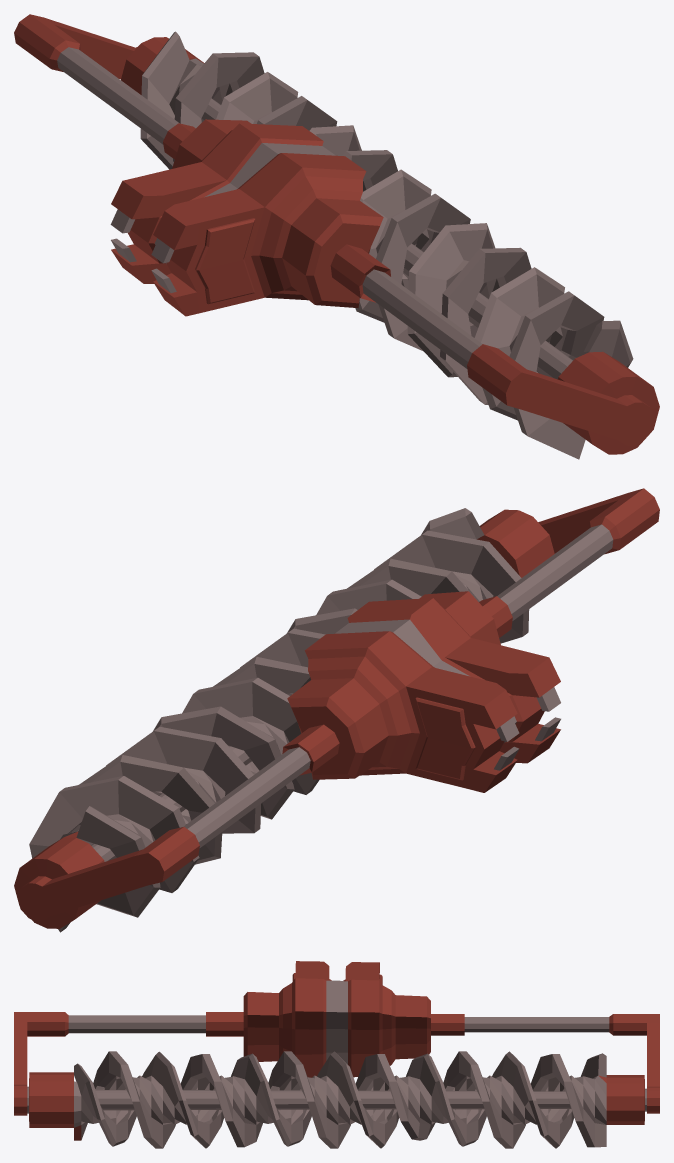
File: traktor drescher ding.fbx
The picture shows the model from 3 angles, top to bottom: view 1: azimuth 30°, elevation 25°; view 2: azimuth 150°, elevation 25°; view 3: azimuth 270°, elevation 25°; orthographic projection. The views are drawn at different scales.
Parts seen in each view (by area): view 1: Circle; view 2: Circle; view 3: Circle.
Boxes of the visible parts, bbox=[...] form: Circle: bbox=[14, 14, 659, 459]; Circle: bbox=[14, 488, 659, 932]; Circle: bbox=[14, 961, 659, 1148].
Bounding box in the file's own units: 95.74 × 56.67 × 258.
